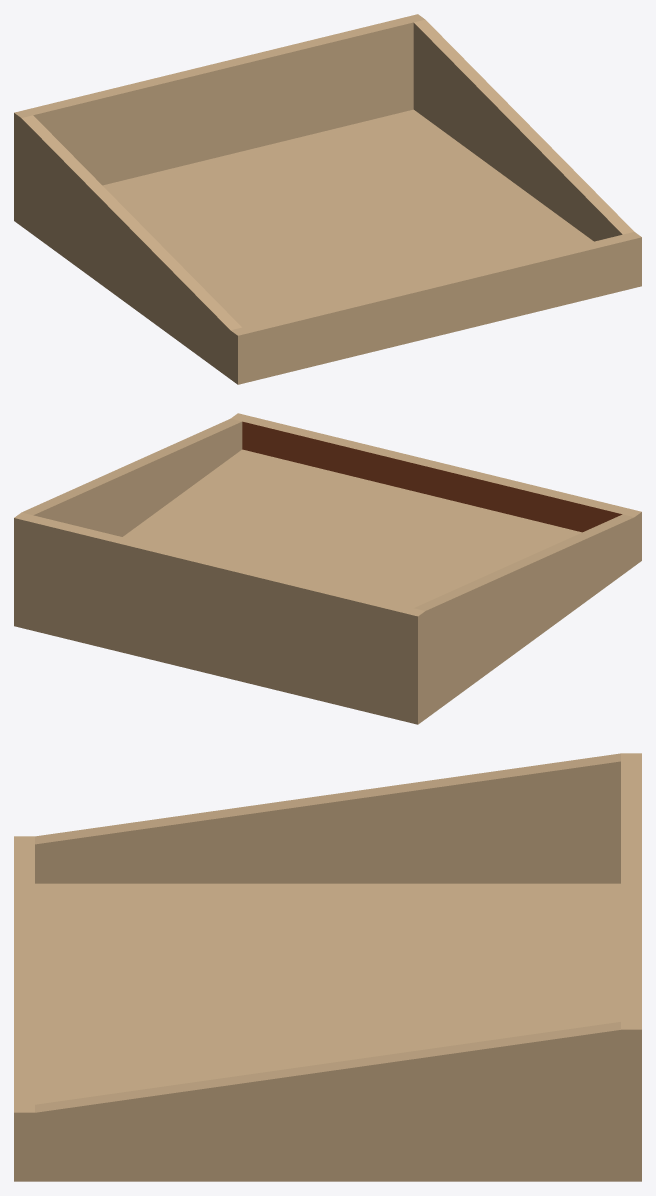
File: Prop_Fantasy_Market_Produce_Box_01.FBX
The picture shows the model from 3 angles, top to bottom: view 1: azimuth 30°, elevation 25°; view 2: azimuth 150°, elevation 25°; view 3: azimuth 270°, elevation 25°; orthographic projection. The views are drawn at different scales.
Visible parts, largest first — view 1: Prop_Fantasy_Market_Produce_Box_01; view 2: Prop_Fantasy_Market_Produce_Box_01; view 3: Prop_Fantasy_Market_Produce_Box_01.
Boxes of the visible parts, x1,y1,x2,y2 form: Prop_Fantasy_Market_Produce_Box_01: (14, 14, 641, 384); Prop_Fantasy_Market_Produce_Box_01: (14, 413, 641, 724); Prop_Fantasy_Market_Produce_Box_01: (14, 753, 641, 1181).
Size of the model in its own units: 803 by 206 by 771.
